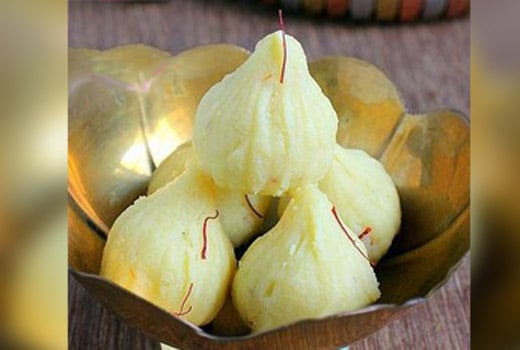modak: (203, 17, 354, 191), (105, 164, 252, 320), (244, 189, 388, 321)
